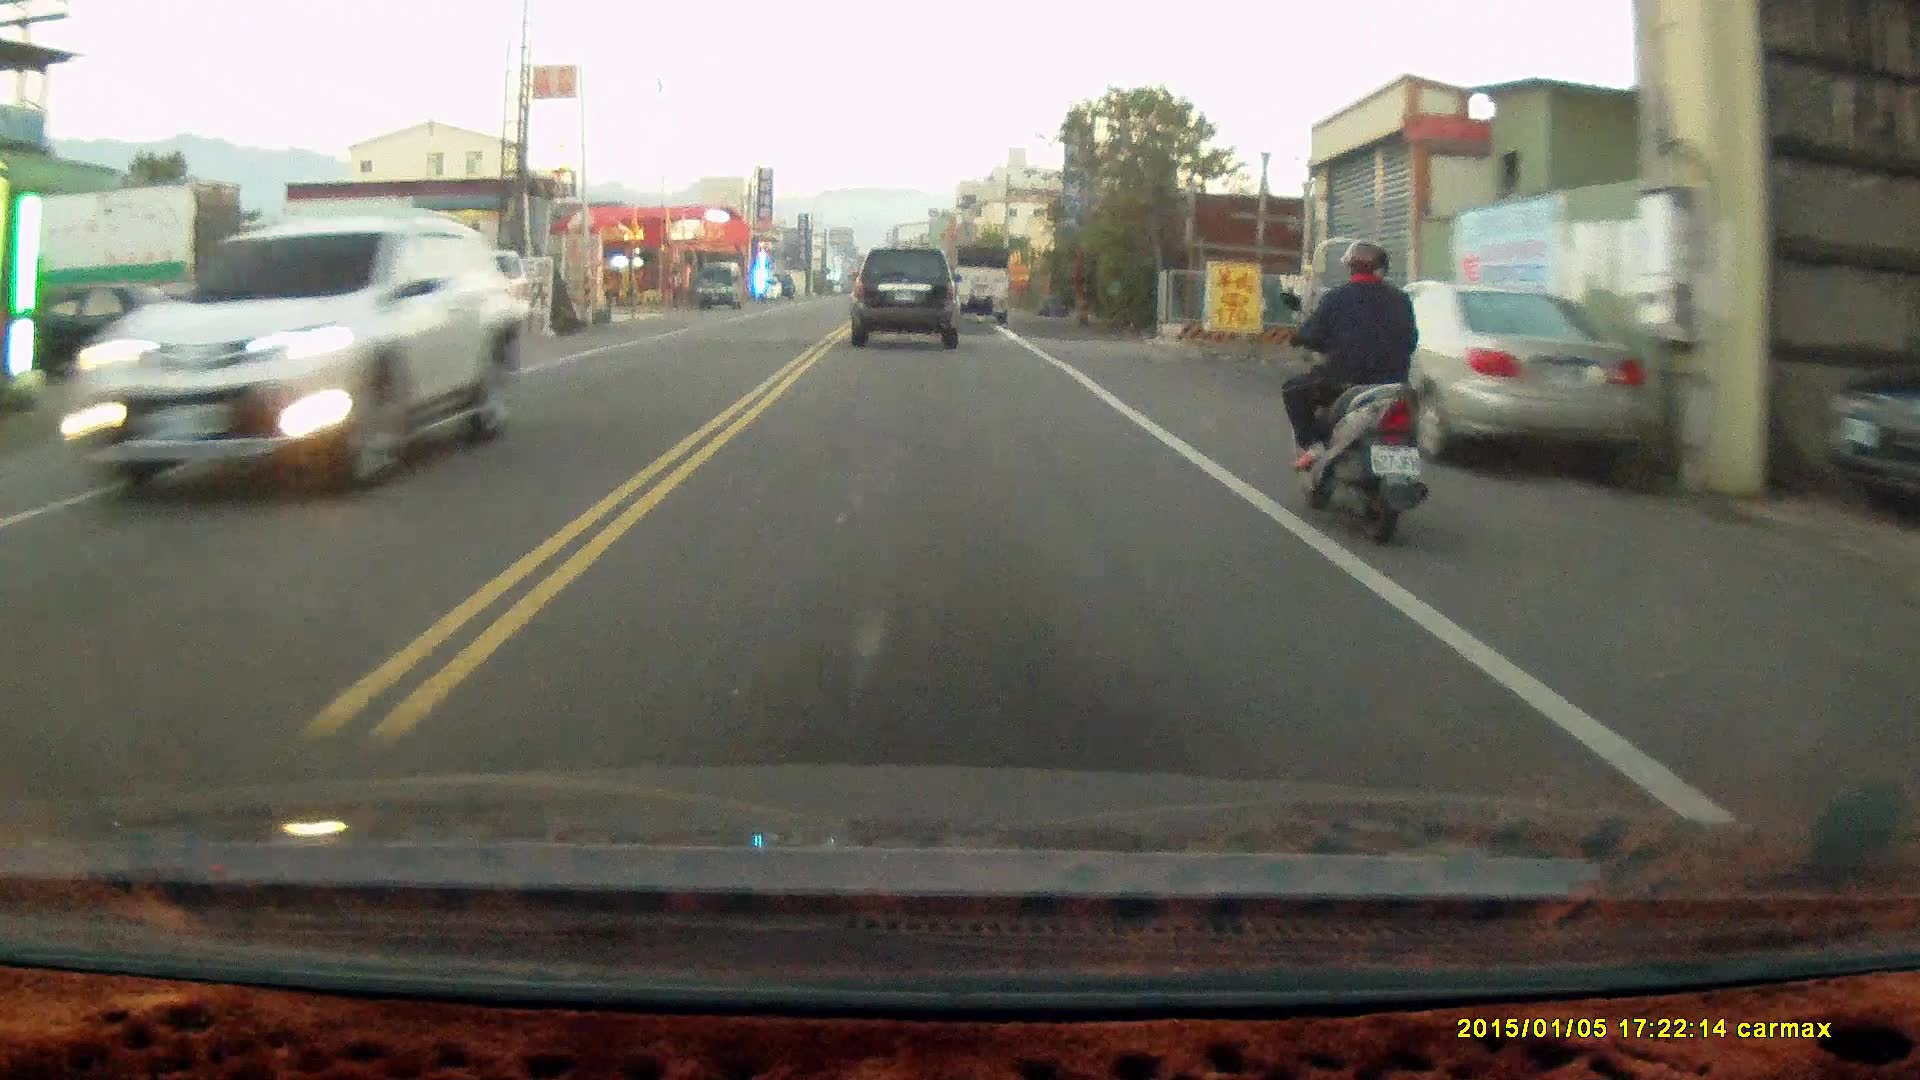rider: (1276, 238, 1426, 546)
vehicle: (41, 216, 507, 512), (1320, 282, 1661, 484), (47, 280, 212, 381), (851, 248, 963, 350), (952, 243, 1014, 323)
